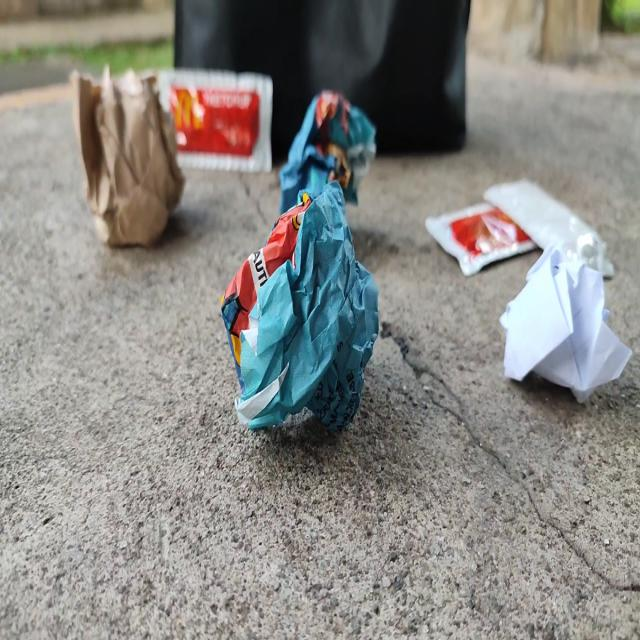paper: (202, 183, 391, 462), (67, 69, 186, 258), (273, 76, 385, 241)
